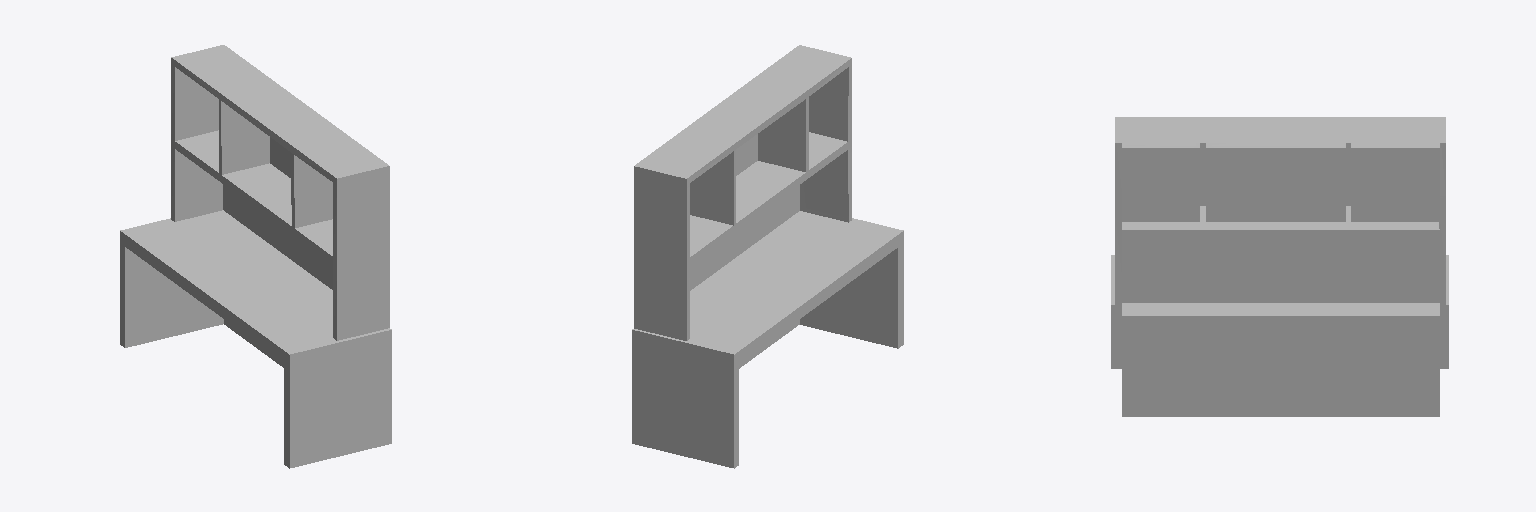
Rendered from Mini Mesa.obj.
3 renders of one model, left to right at view 1: azimuth 30°, elevation 25°; view 2: azimuth 150°, elevation 25°; view 3: azimuth 270°, elevation 25°, orthographic.
Parts seen in each view (by area): view 1: desk; view 2: desk; view 3: desk.
Part boxes in pixels (left/top/right/bottom): desk: left=120, top=45, right=391, bottom=468; desk: left=632, top=45, right=903, bottom=468; desk: left=1111, top=117, right=1448, bottom=416.
Size of the model in its own units: 18.3 by 47.24 by 52.51.